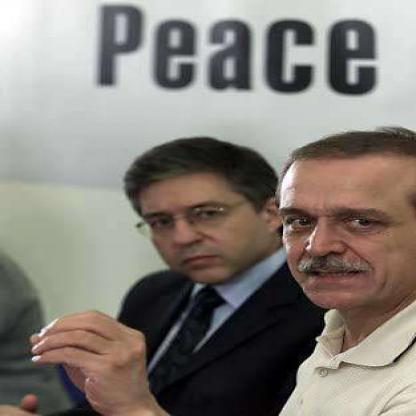face: (138, 144, 265, 288)
